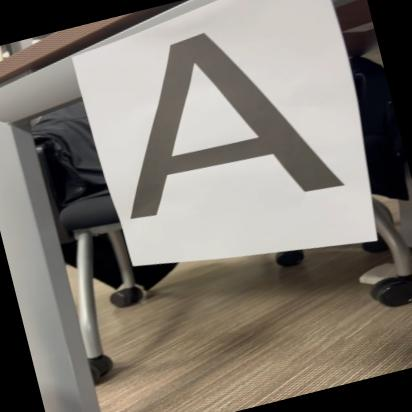seat: (80, 2, 354, 244)
